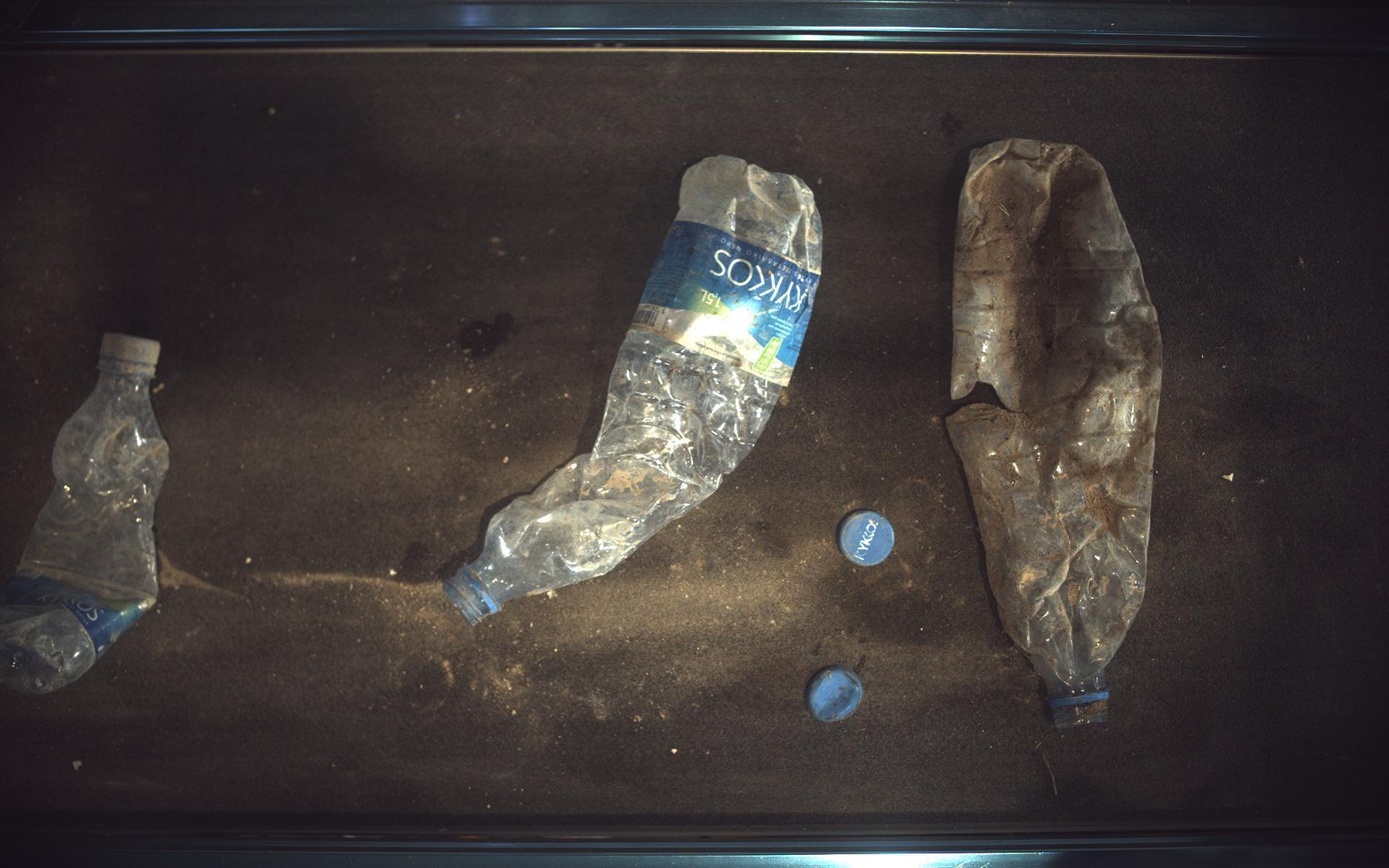general_w: (443, 155, 823, 624), (948, 138, 1165, 728), (1, 333, 168, 694), (807, 667, 865, 723), (841, 511, 896, 566)
